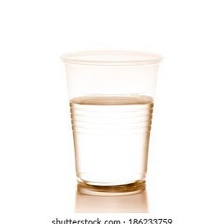glass: (54, 41, 168, 200)
